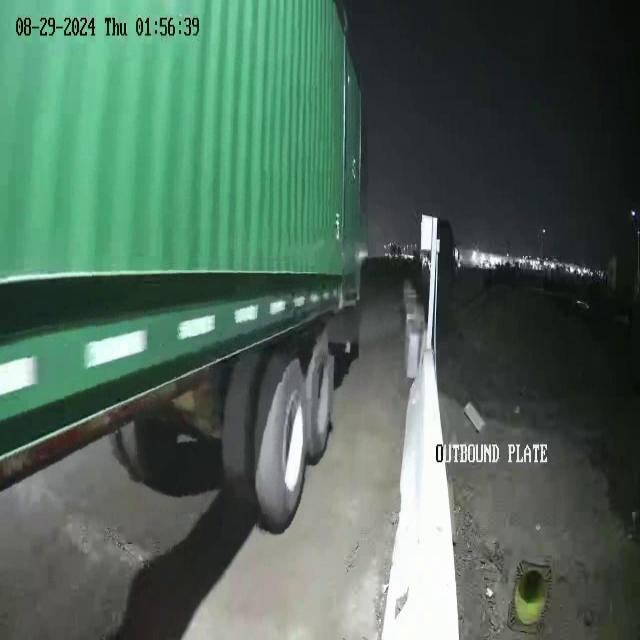TRUCK_OUT: (1, 0, 367, 534)
